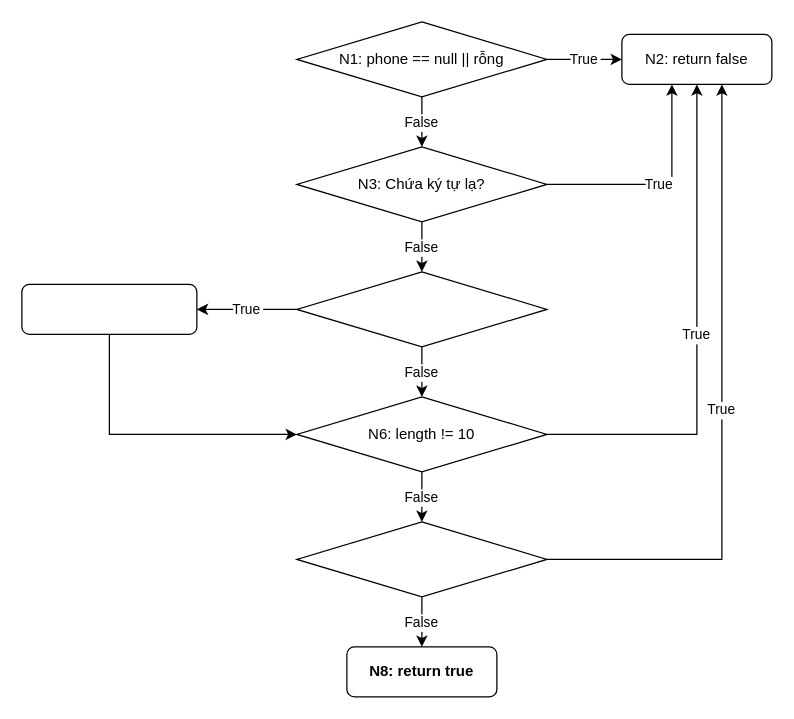
The diagram is 794 pixels wide and 719 high, and some of its shapes have lost their labels. Here are the shapes that lost their labels. From the top down, the centre of each, then its label:
(x=109, y=308): N5: Đổi +84 thành 0
(x=421, y=309): N4: startsWith("+84")
(x=421, y=559): N7: Sai đầu số (03,05,07,08,09)
